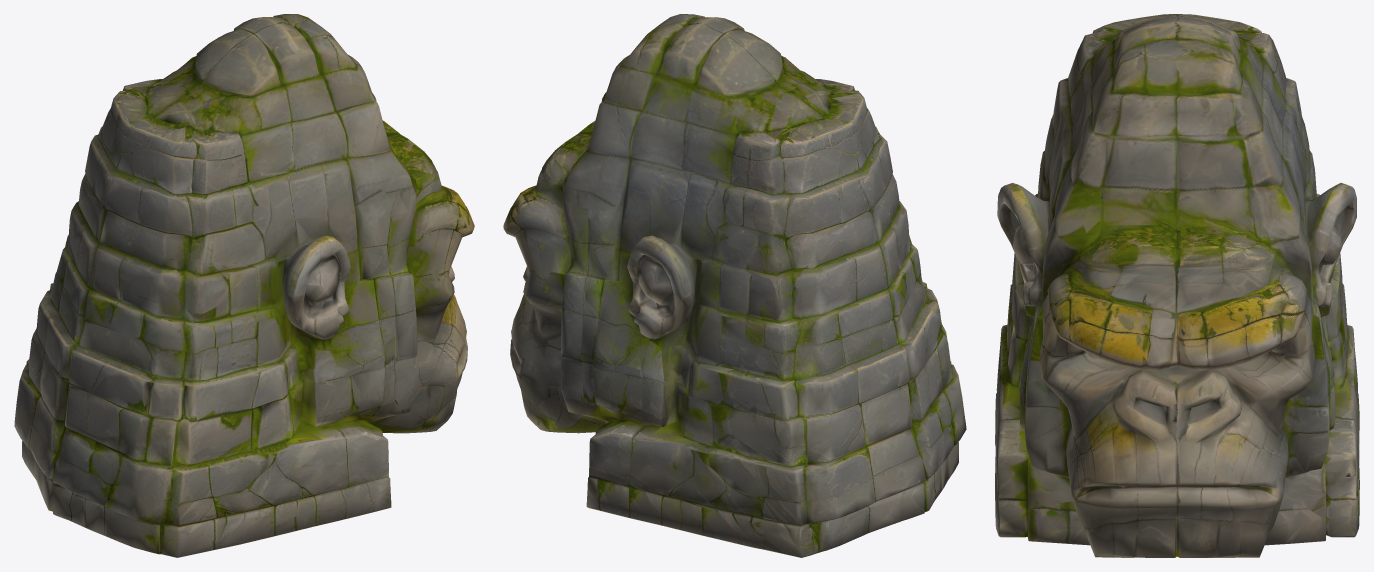
The model's file is gorilla-head-lod.glb.
3 views of the same model, side by side, from view 1: azimuth 30°, elevation 25°; view 2: azimuth 150°, elevation 25°; view 3: azimuth 270°, elevation 25° (orthographic). The views are drawn at different scales.
Parts seen in each view (by area): view 1: tripo_node_379f2c09-3e2e-47e7-b713-a3f6207ea97d; view 2: tripo_node_379f2c09-3e2e-47e7-b713-a3f6207ea97d; view 3: tripo_node_379f2c09-3e2e-47e7-b713-a3f6207ea97d.
Boxes of the visible parts, left/top/right/bottom form: tripo_node_379f2c09-3e2e-47e7-b713-a3f6207ea97d: left=14, top=14, right=474, bottom=557; tripo_node_379f2c09-3e2e-47e7-b713-a3f6207ea97d: left=503, top=14, right=966, bottom=557; tripo_node_379f2c09-3e2e-47e7-b713-a3f6207ea97d: left=995, top=14, right=1359, bottom=557.
Bounding box in the file's own units: 0.9546 × 1 × 0.6678.
Materials: 1 (1 with a texture image).
